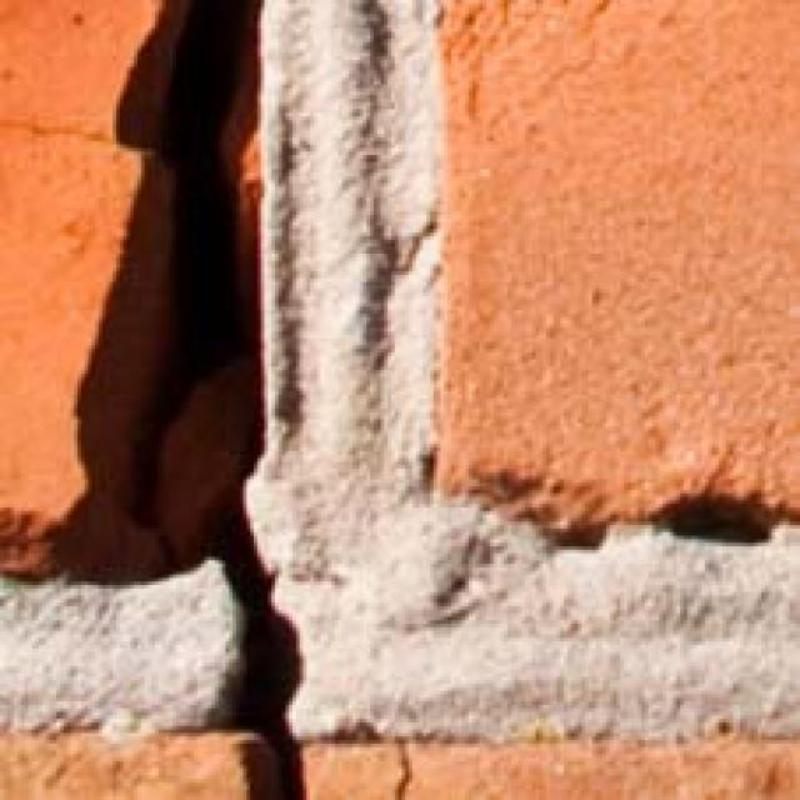crack: (161, 0, 260, 420), (217, 361, 305, 799), (394, 739, 412, 799)
